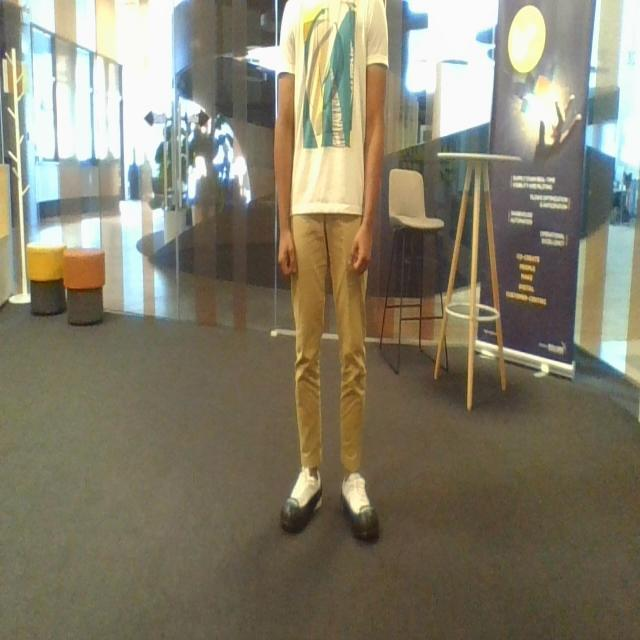shoes: (332, 469, 386, 547), (275, 465, 326, 534)
